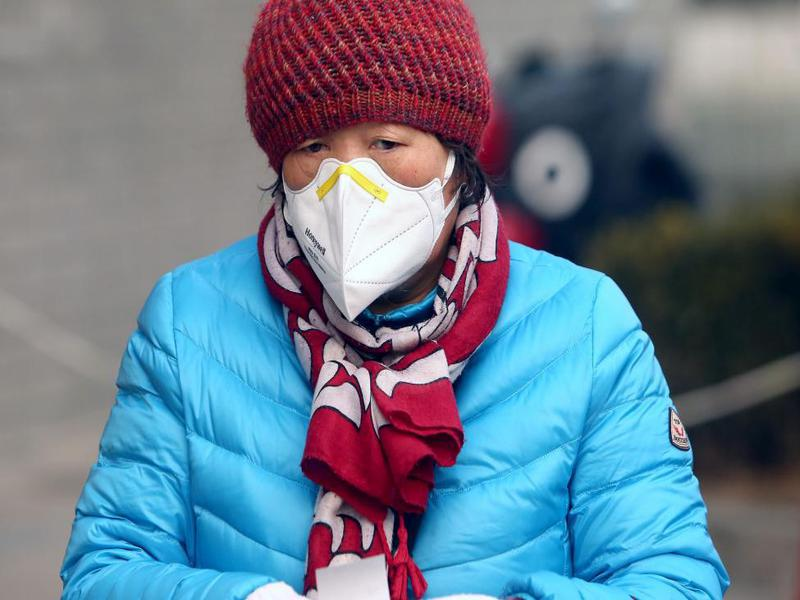with_mask: (278, 123, 470, 323)
